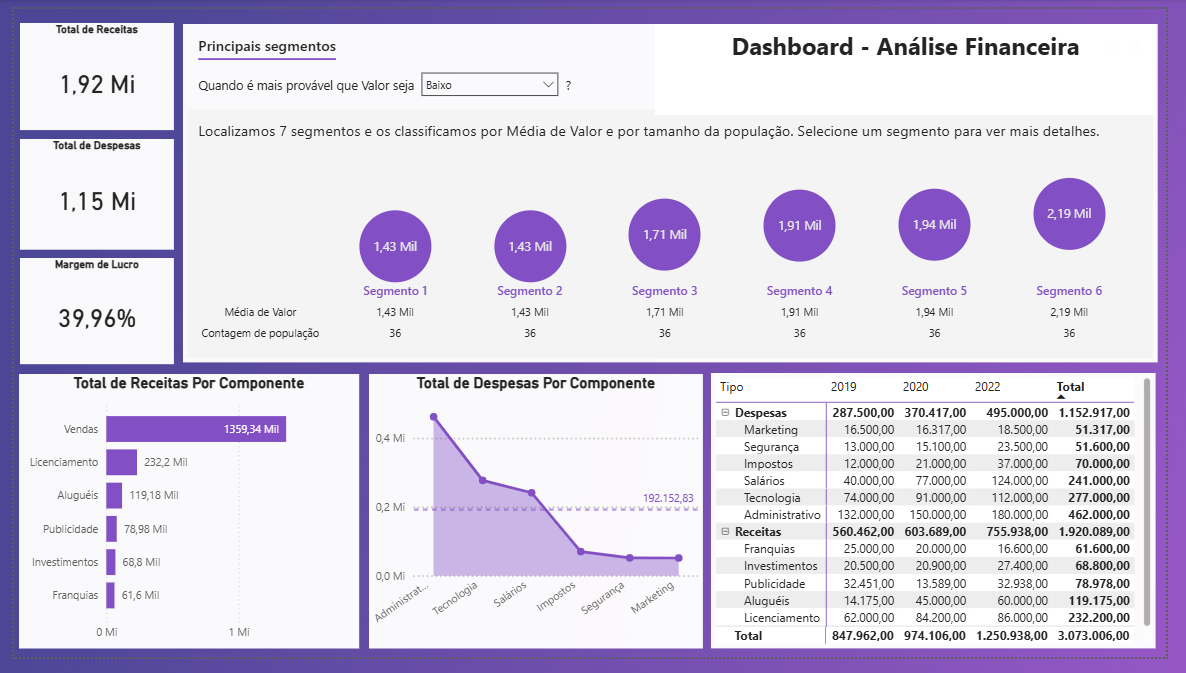

The dashboard page shown, as its layout file describes it:
{"tool":"powerbi","page":{"name":"Dashboard","canvas":[1280,720],"ordinal":0},"visuals":[{"type":"card","title":"Total de  Receitas","fields":{"Values":["Medidas.TotalReceitas"]},"box":[6.2,16.1,171,119],"z":0},{"type":"card","title":"Total de Despesas","fields":{"Values":["Medidas.TotalDespesas"]},"box":[6.2,145,171,122.7],"z":1000},{"type":"card","title":"Margem de Lucro","fields":{"Values":["Medidas.Margem de Lucro"]},"box":[6.2,276.4,171,117.7],"z":2000},{"type":"clusteredBarChart","title":"Total de Receitas Por Componente","fields":{"Category":["DadosFinanceiros.Componente"],"Y":["Medidas.TotalReceitas"]},"box":[5.5,405.3,377.9,305],"z":3000},{"type":"areaChart","title":"Total de Despesas Por Componente","fields":{"Category":["DadosFinanceiros.Componente"],"Y":["Medidas.TotalDespesas"]},"box":[394.4,405.3,371,305],"z":4000},{"type":"pivotTable","fields":{"Rows":["DadosFinanceiros.Tipo","DadosFinanceiros.Componente"],"Values":["Sum(DadosFinanceiros.Valor)"],"Columns":["DadosFinanceiros.Data.Variation.Hierarquia de datas.Ano"]},"box":[774.7,404.7,494,305.9],"z":5000},{"type":"keyDriversVisual","fields":{"ExplainBy":["DadosFinanceiros.Componente","DadosFinanceiros.Tipo"],"Target":["DadosFinanceiros.Valor"]},"box":[187.4,16.2,1082.7,376.2],"z":6000},{"type":"textbox","box":[712.7,16.3,556.8,100.7],"z":7000}]}

Visuals, with their boxes in screenshot pixels (x1, y1, x2, y2), scaled from the page's 1280x720 canvas onto the 1186x673 screenshot:
"Total de  Receitas" card: <box>6,15,164,126</box>
"Total de Despesas" card: <box>6,136,164,250</box>
"Margem de Lucro" card: <box>6,258,164,368</box>
"Total de Receitas Por Componente" clusteredBarChart: <box>5,379,355,664</box>
"Total de Despesas Por Componente" areaChart: <box>365,379,709,664</box>
pivotTable - DadosFinanceiros.Tipo x DadosFinanceiros.Componente: <box>718,378,1176,664</box>
keyDriversVisual - DadosFinanceiros.Componente x DadosFinanceiros.Tipo: <box>174,15,1177,367</box>
textbox: <box>660,15,1176,109</box>
